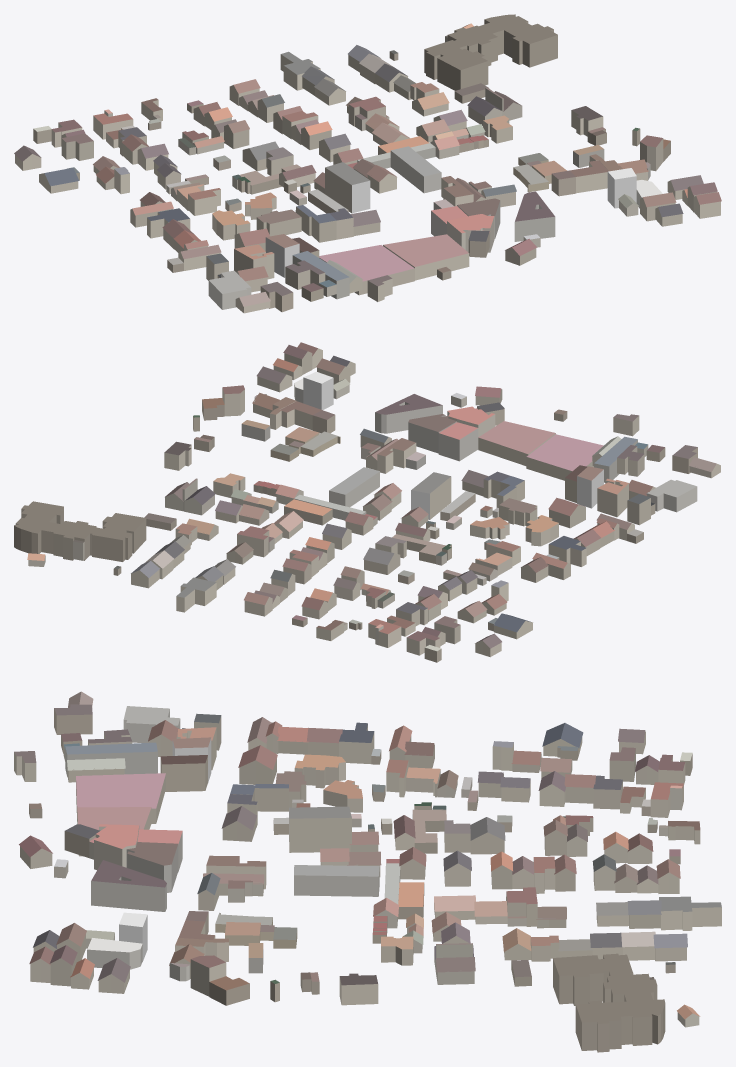
3 views of the same model, one above another, from view 1: azimuth 30°, elevation 25°; view 2: azimuth 150°, elevation 25°; view 3: azimuth 270°, elevation 25° (orthographic). The views are drawn at different scales.
Visible parts, largest first — view 1: tuile; view 2: tuile; view 3: tuile.
Boxes of the visible parts, <box> form: tuile: <box>14,14,721,313</box>; tuile: <box>14,342,720,662</box>; tuile: <box>14,691,721,1052</box>.
Bounding box in the file's own units: 278 × 25.5 × 266.
